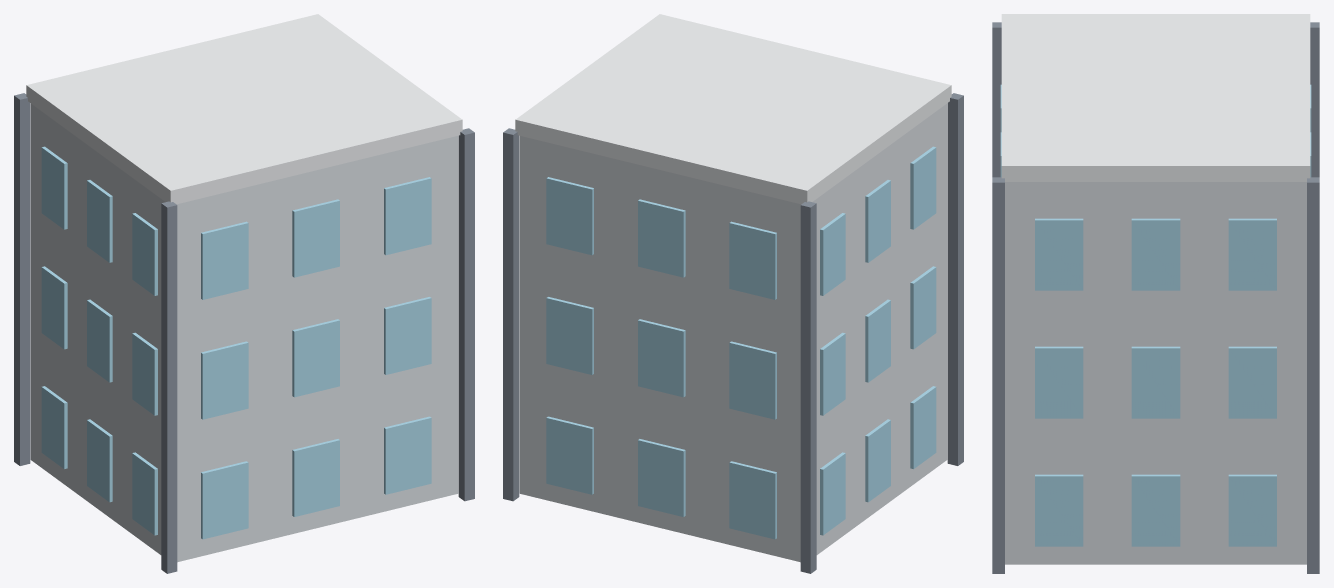
The model's file is residential_a.glb.
The picture shows the model from 3 angles, left to right: view 1: azimuth 30°, elevation 25°; view 2: azimuth 150°, elevation 25°; view 3: azimuth 270°, elevation 25°; orthographic projection. The views are drawn at different scales.
Bounding box in the file's own units: 7.53 × 8.84 × 6.49.
